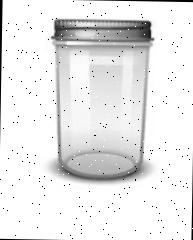glass: (48, 18, 155, 183)
